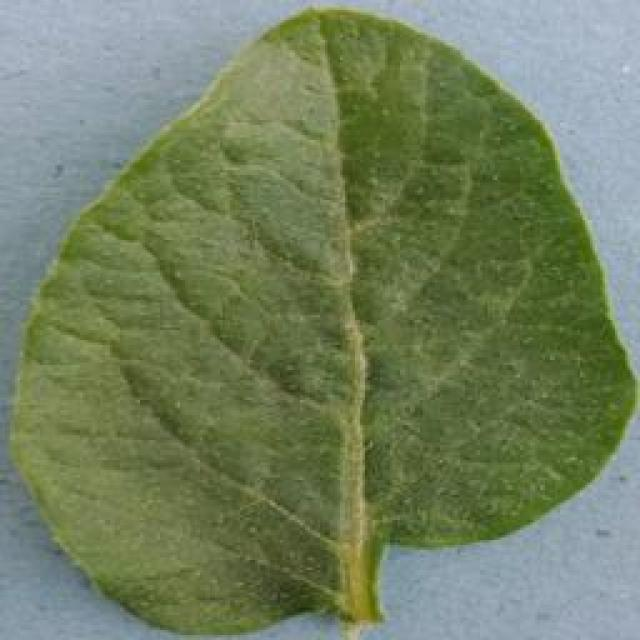Potato_Healthy: (4, 12, 634, 638)
